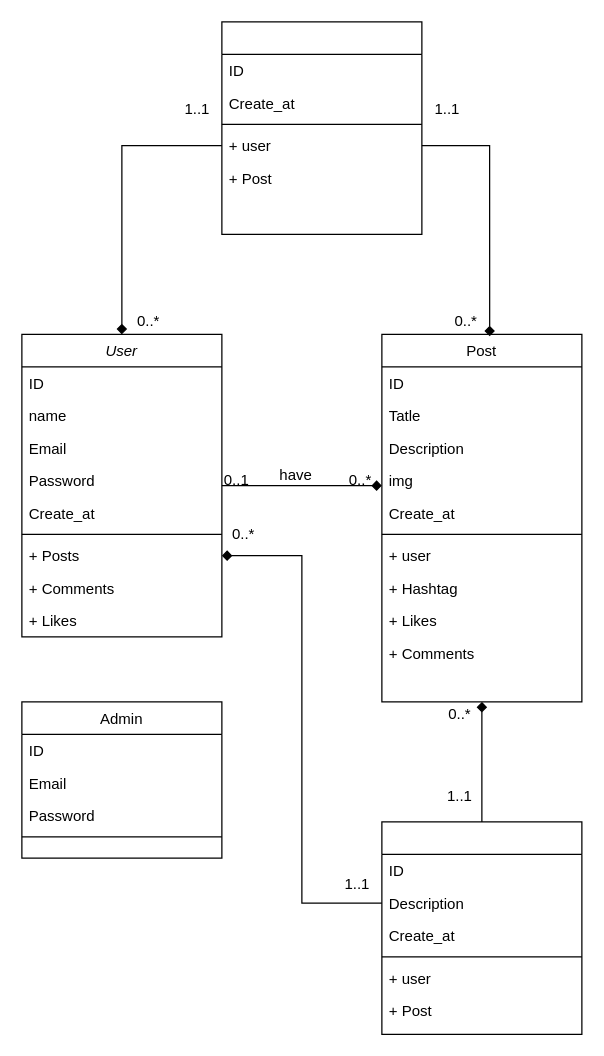
Image size: 604x1056. Some labels were removed from this diagram. Each missing label, with the box of its shape:
Comment: (381, 821, 582, 1034)
Like: (221, 21, 422, 234)
